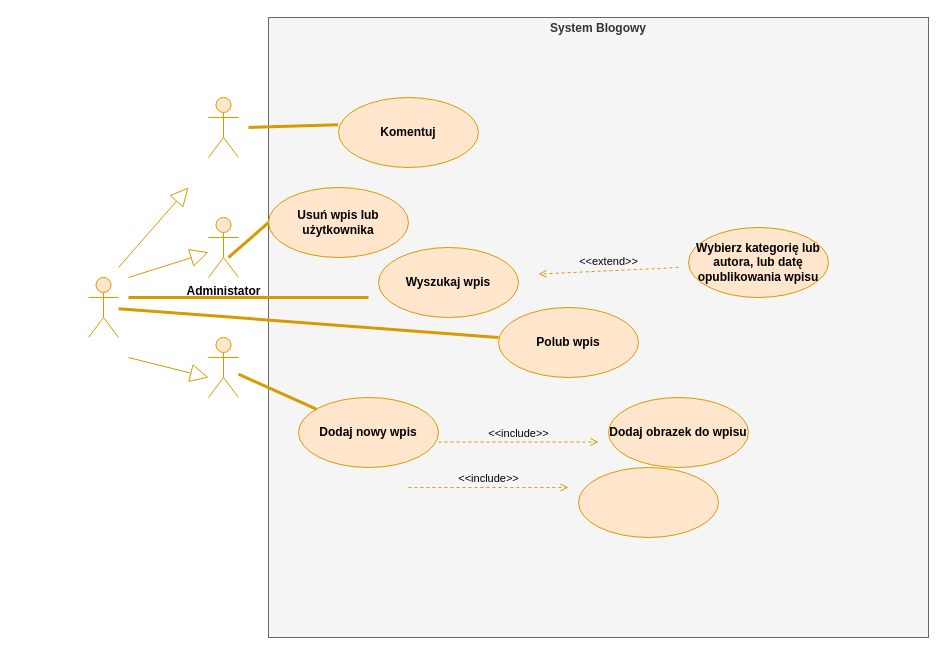
The diagram is 946 pixels wide and 655 high, and some of its shapes have lost their labels. Here are the shapes that lost their labels. From the top down, the centre of each, then its label:
At [223,127]: "Uź ytkownik zarejestowany".
At [103,307]: "Użytkownik niezarejestrowany".
At [223,367]: "Autor".
At [648,502]: "Dodaj tag i kategorię wpisu".
